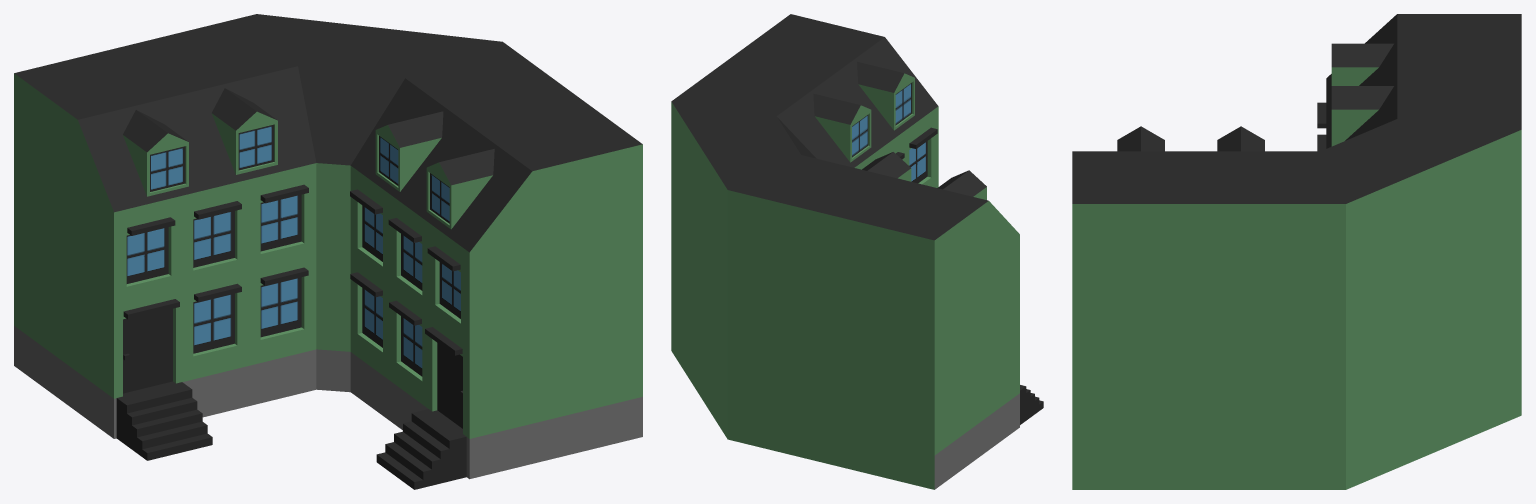
Rendered from AngleGreen.obj.
3 views of the same model, side by side, from view 1: azimuth 30°, elevation 25°; view 2: azimuth 150°, elevation 25°; view 3: azimuth 270°, elevation 25° (orthographic). The views are drawn at different scales.
Visible parts, largest first — view 1: rogZielony; view 2: rogZielony; view 3: rogZielony.
Boxes of the visible parts, x1,y1,x2,y2 form: rogZielony: (14, 14, 642, 489); rogZielony: (671, 14, 1043, 489); rogZielony: (1072, 14, 1521, 489).
Bounding box in the file's own units: 11.5 × 8.07 × 11.5.
